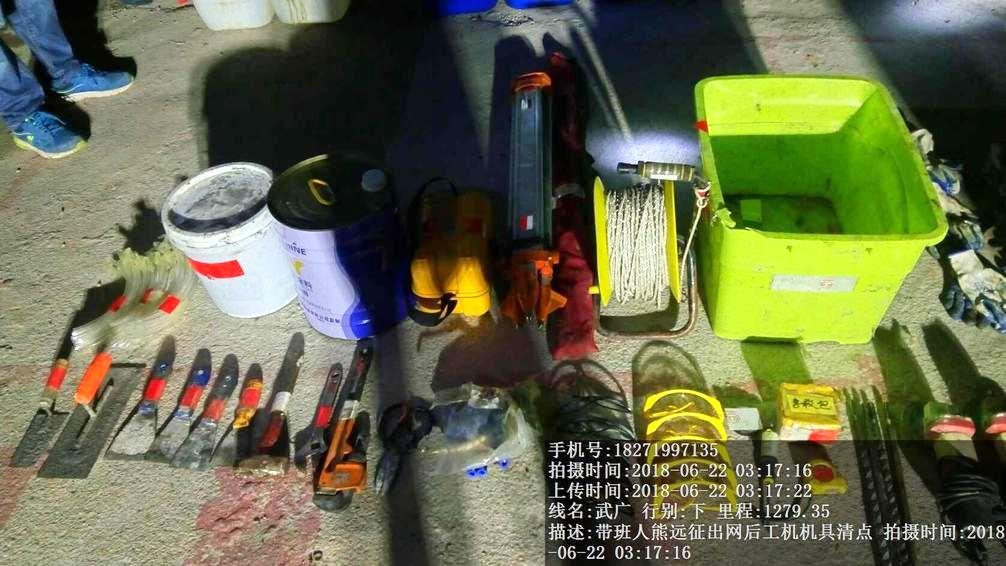DX: (580, 166, 701, 348)
T: (688, 72, 951, 351)
